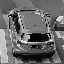motor: (13, 7, 39, 58)
